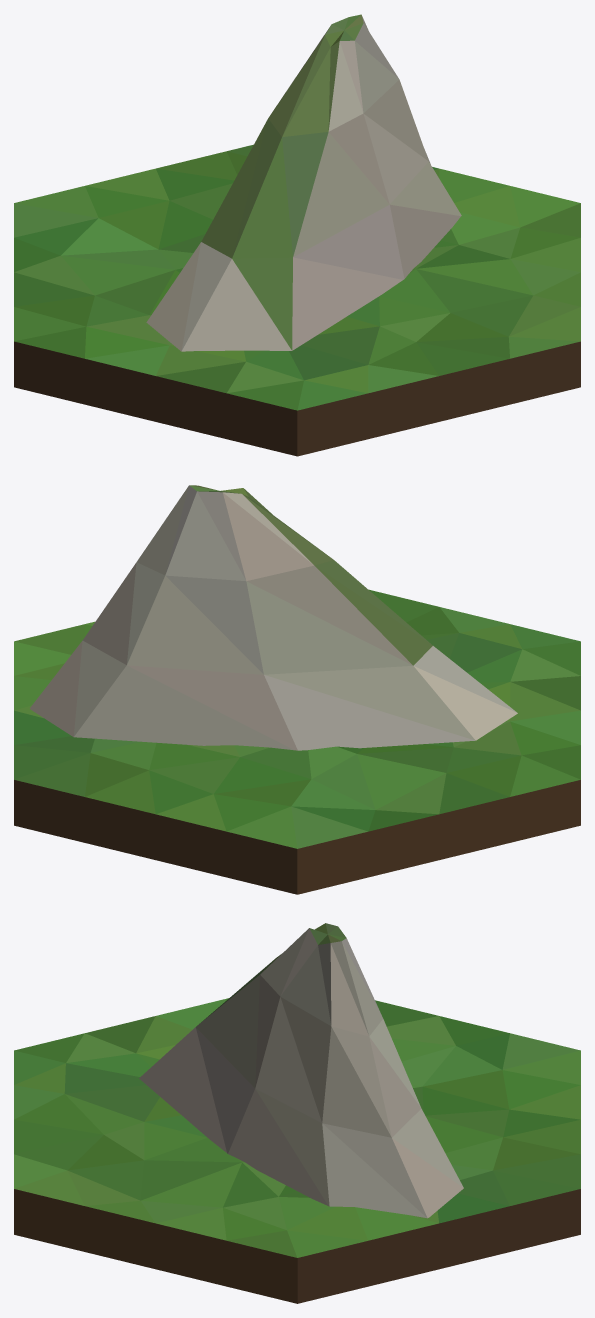
File: Rock of Gibraltar.glb
3 renders of one model, top to bottom at view 1: azimuth 30°, elevation 25°; view 2: azimuth 150°, elevation 25°; view 3: azimuth 270°, elevation 25°, orthographic.
Parts seen in each view (by area): view 1: Rock of Gibraltar; view 2: Rock of Gibraltar; view 3: Rock of Gibraltar.
Part boxes in pixels (x1,y1,x2,y2): Rock of Gibraltar: (14,14,580,456); Rock of Gibraltar: (14,485,580,894); Rock of Gibraltar: (14,923,580,1303).
Bounding box in the file's own units: 1.94 × 0.8712 × 1.68.
